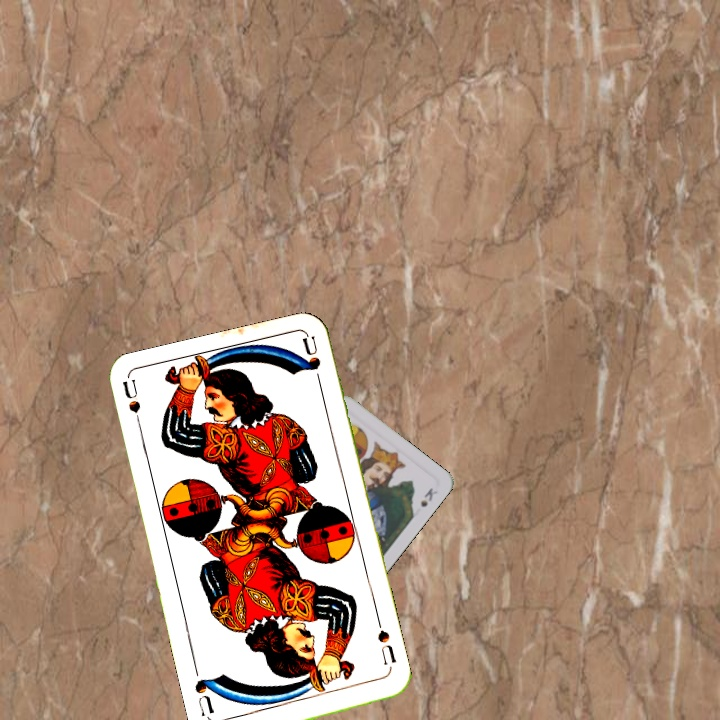SU: (119, 377, 146, 437), (373, 626, 399, 668)
